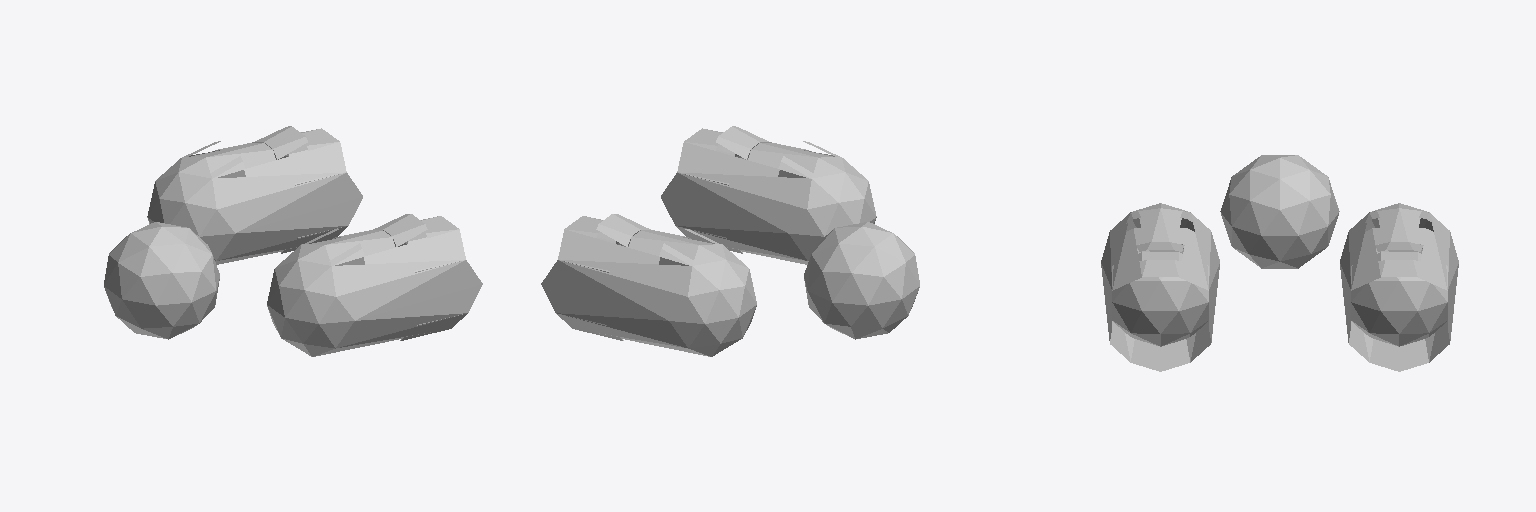
File: Space Ship1.obj
3 renders of one model, left to right at view 1: azimuth 30°, elevation 25°; view 2: azimuth 150°, elevation 25°; view 3: azimuth 270°, elevation 25°, orthographic.
Parts seen in each view (by area): view 1: Icosphere.001_Icosphere.002, Icosphere_Icosphere.002, Icosphere.002_Icosphere.003; view 2: Icosphere_Icosphere.002, Icosphere.001_Icosphere.002, Icosphere.002_Icosphere.003; view 3: Icosphere.001_Icosphere.002, Icosphere_Icosphere.002, Icosphere.002_Icosphere.003.
Boxes of the visible parts, <box> form: Icosphere.001_Icosphere.002: <box>267,214,482,356</box>; Icosphere_Icosphere.002: <box>147,126,362,264</box>; Icosphere.002_Icosphere.003: <box>104,222,219,339</box>; Icosphere_Icosphere.002: <box>541,214,756,356</box>; Icosphere.001_Icosphere.002: <box>661,126,876,264</box>; Icosphere.002_Icosphere.003: <box>804,222,919,339</box>; Icosphere.001_Icosphere.002: <box>1101,203,1219,371</box>; Icosphere_Icosphere.002: <box>1340,203,1458,371</box>; Icosphere.002_Icosphere.003: <box>1220,155,1339,268</box>.
Size of the model in its own units: 5.54 by 2.06 by 6.